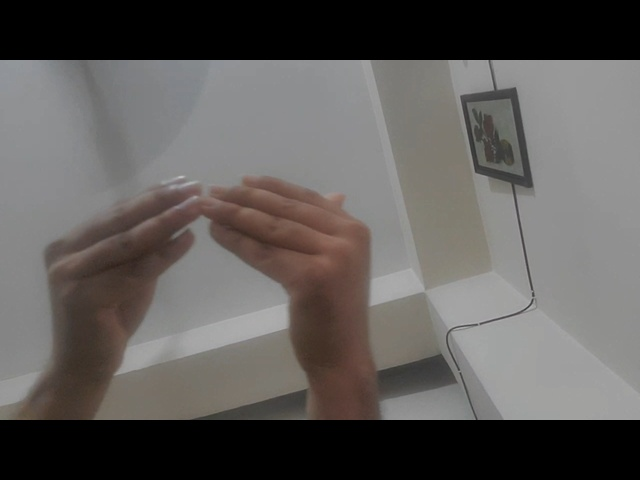Thank you: (11, 158, 397, 406)
